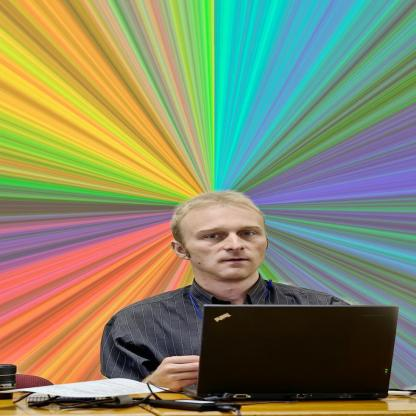board: (172, 309, 407, 412)
